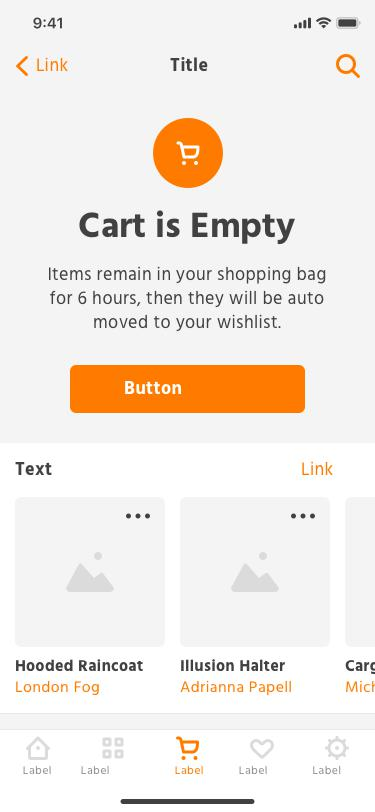Icon: (152, 118, 224, 189), (175, 734, 201, 761), (336, 54, 362, 80), (100, 734, 125, 760), (324, 736, 350, 760), (26, 736, 51, 760), (249, 737, 274, 759), (16, 56, 32, 79), (124, 512, 151, 520), (290, 512, 316, 519)
Image: (180, 496, 331, 648), (15, 496, 166, 648), (345, 498, 375, 647)
Text: (48, 265, 327, 333), (79, 209, 297, 246), (16, 658, 146, 672), (180, 680, 293, 696), (180, 657, 286, 673), (16, 680, 101, 696), (14, 460, 54, 477), (170, 56, 209, 73), (36, 57, 70, 74), (345, 659, 375, 675), (300, 461, 333, 475), (237, 764, 269, 776), (346, 680, 375, 693), (22, 763, 53, 775), (312, 763, 341, 775), (174, 764, 205, 775), (79, 764, 110, 775)
TextButton: (70, 365, 307, 414)
UpperTaskBar: (33, 16, 362, 31)
